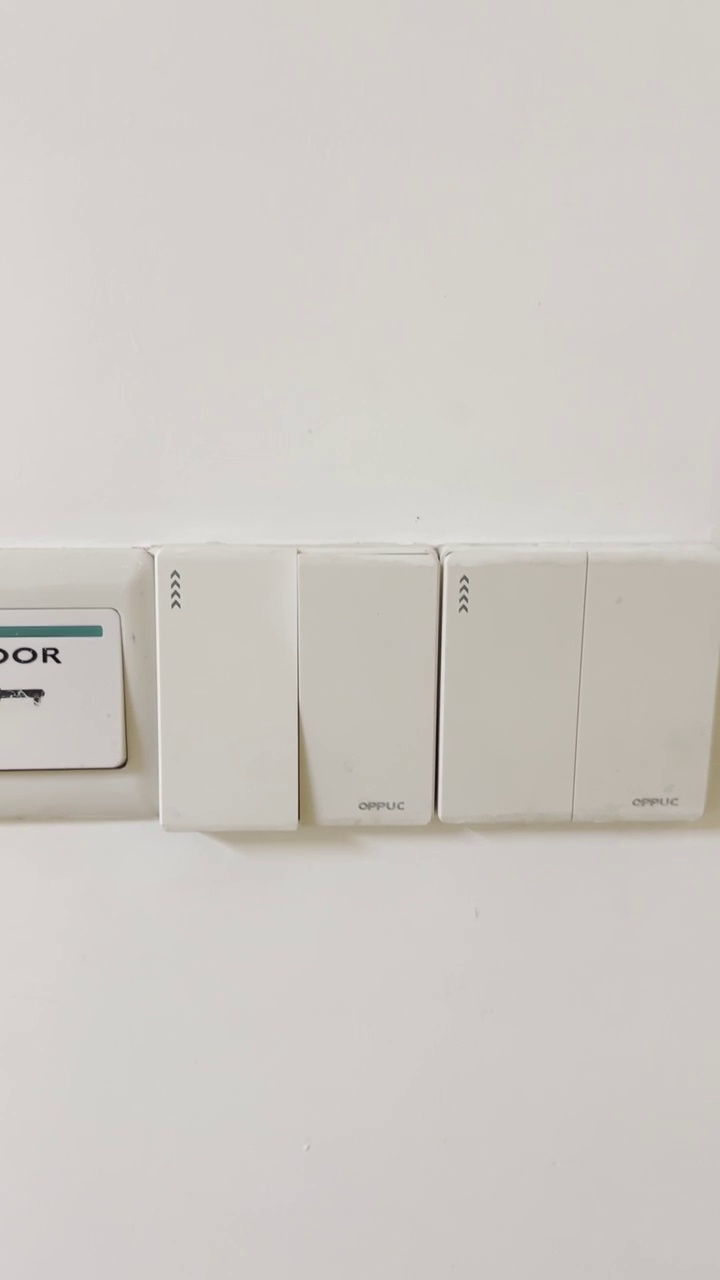button1: (578, 555, 718, 820), (442, 549, 574, 822), (161, 556, 293, 822), (302, 556, 433, 823)
